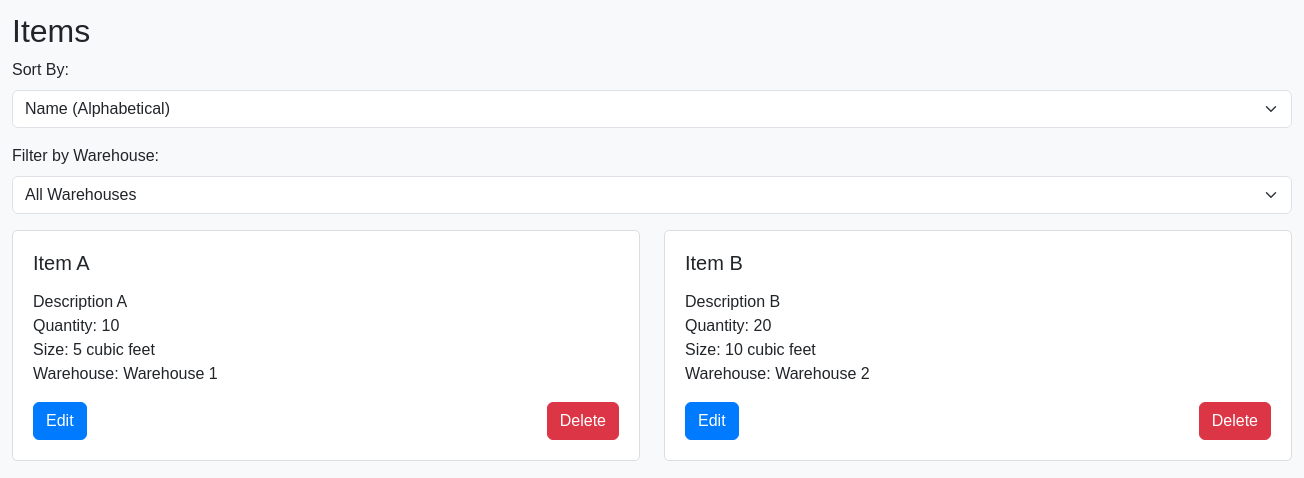
Test: ItemList › should delete an item
Expected: the heading "Item A" is shown, top-left (33, 252), bottom-right (90, 274)
Expected: the heading "Item B" is shown, top-left (685, 252), bottom-right (743, 274)
# Find the delete button for the first item
Click the 1st button "Delete": (583, 421) top-left (547, 402), bottom-right (619, 440)
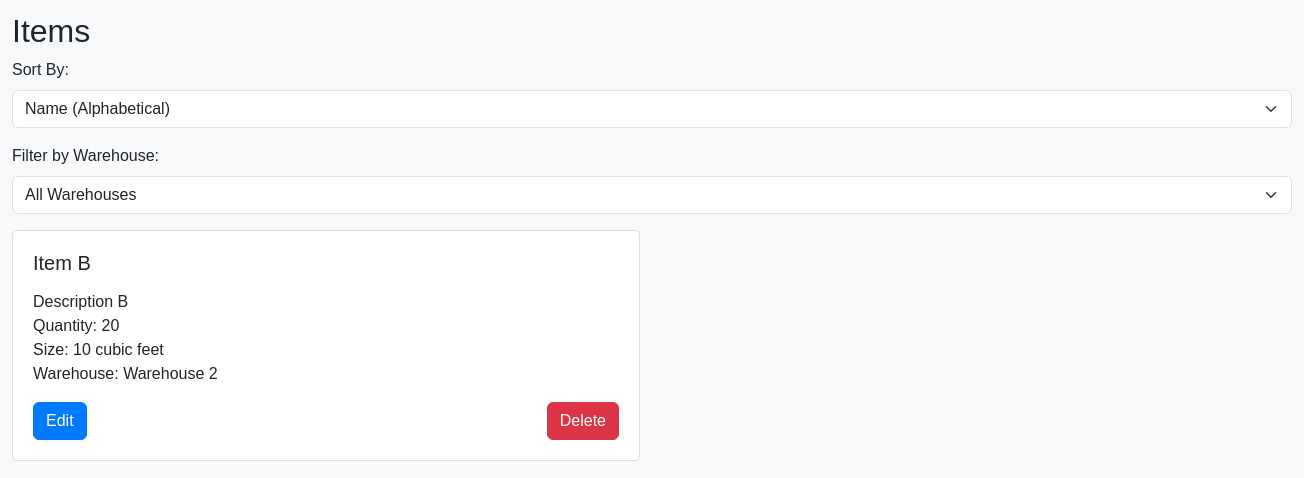
Now the heading "Item A" is gone
